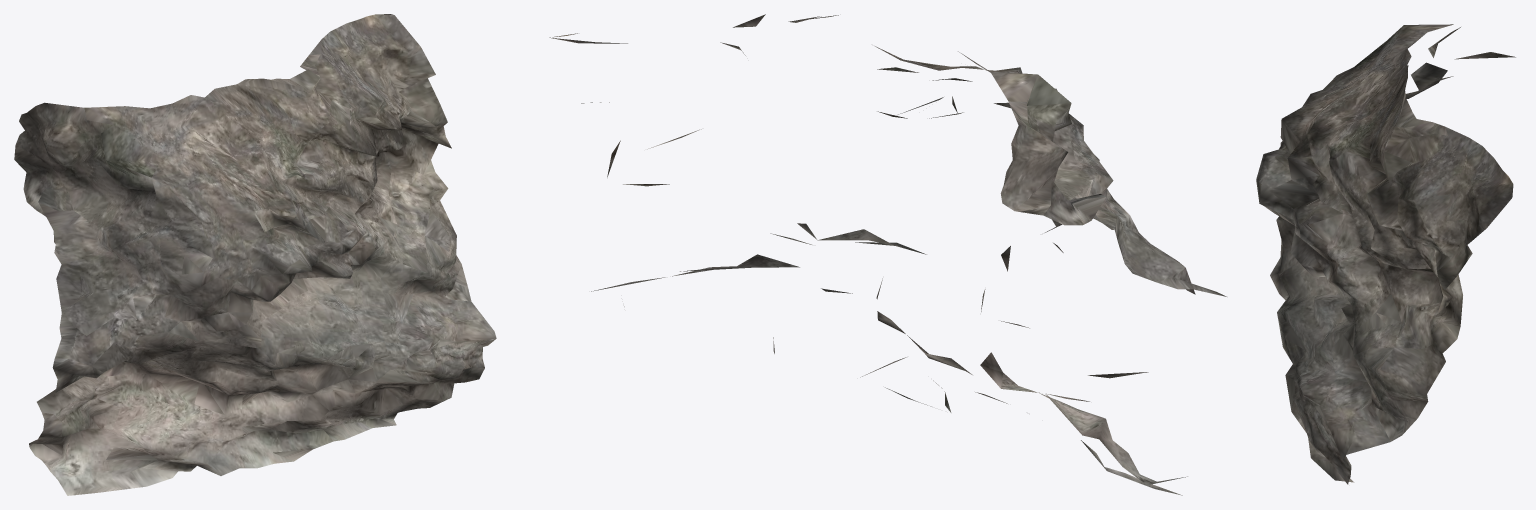
File: cliff_c_lod2.glb
The picture shows the model from 3 angles, left to right: view 1: azimuth 30°, elevation 25°; view 2: azimuth 150°, elevation 25°; view 3: azimuth 270°, elevation 25°; orthographic projection. The views are drawn at different scales.
Parts seen in each view (by area): view 1: cliff_c_lod2; view 2: cliff_c_lod2; view 3: cliff_c_lod2.
Boxes of the visible parts, x1,y1,x2,y2 form: cliff_c_lod2: [14, 14, 496, 495]; cliff_c_lod2: [549, 14, 1226, 495]; cliff_c_lod2: [1256, 24, 1515, 484].
Size of the model in its own units: 32.88 by 23.15 by 16.82.
1 material, 1 textured.
